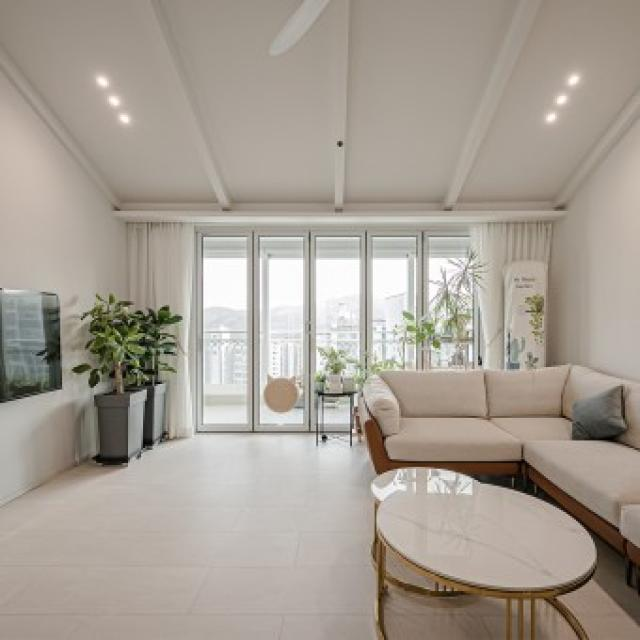Sofa: (360, 362, 640, 549)
Table: (368, 466, 602, 632)
tv: (5, 287, 58, 403)
window: (138, 223, 526, 366)
